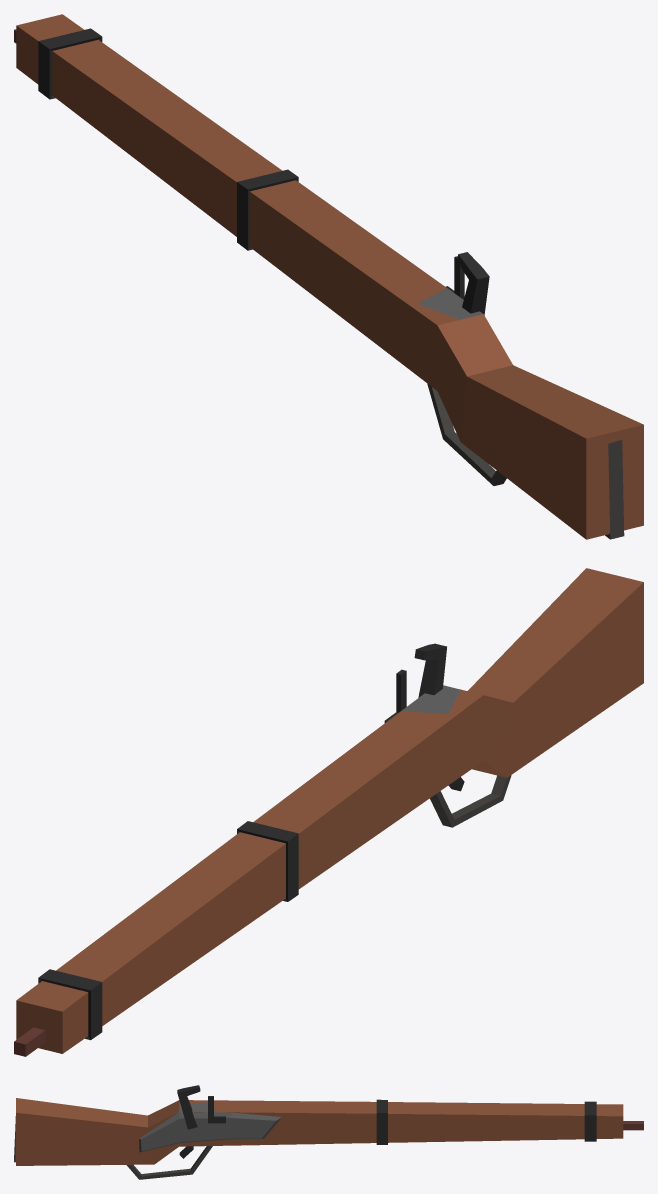
File: rifle_gun.fbx
3 renders of one model, top to bottom at view 1: azimuth 30°, elevation 25°; view 2: azimuth 150°, elevation 25°; view 3: azimuth 270°, elevation 25°, orthographic. The views are drawn at different scales.
Visible parts, largest first — view 1: gun.006; view 2: gun.006; view 3: gun.006.
Boxes of the visible parts, left/top/right/bottom form: gun.006: left=14, top=14, right=643, bottom=539; gun.006: left=14, top=568, right=643, bottom=1056; gun.006: left=14, top=1085, right=643, bottom=1179.
Size of the model in its own units: 11.01 by 32.35 by 189.
